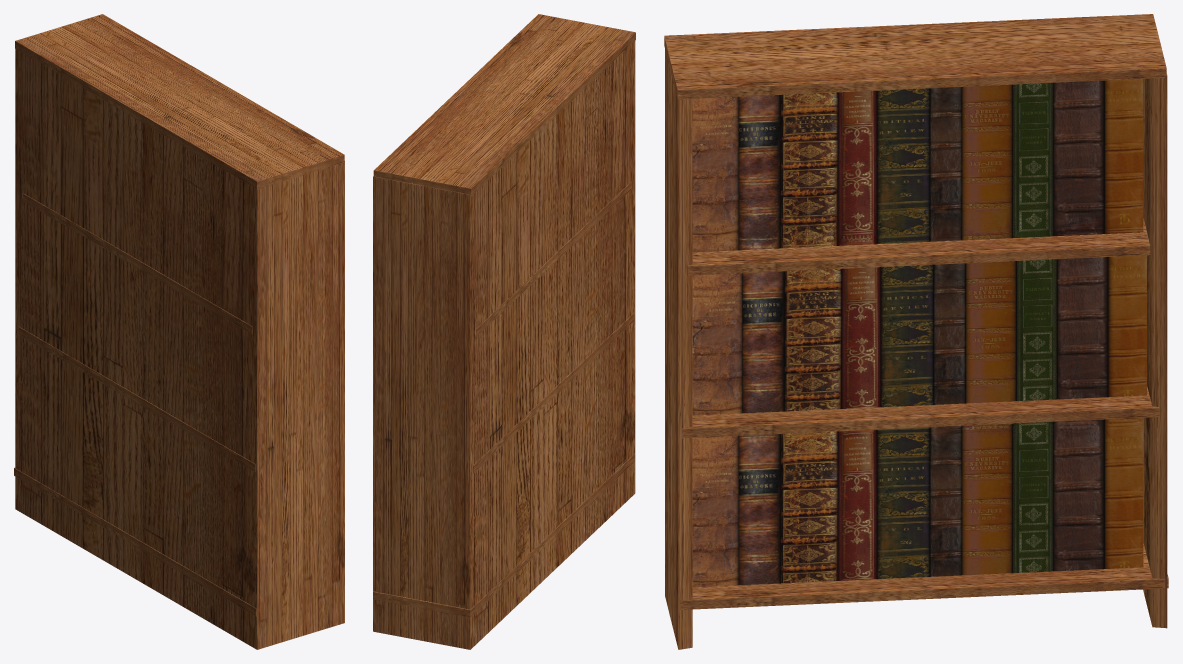
Rendered from Bookshelf_097-119-022__00f14e8f-b088-453e-86e6-e96448d67091.dae.
3 views of the same model, side by side, from view 1: azimuth 30°, elevation 25°; view 2: azimuth 150°, elevation 25°; view 3: azimuth 270°, elevation 25° (orthographic). The views are drawn at different scales.
Parts seen in each view (by area): view 1: Bookshelf, Primitive (×4); view 2: Bookshelf, Primitive (×4); view 3: Primitive (×6), Bookshelf (×2).
Part boxes in pixels (x1,y1,x2,y2): Bookshelf: (15, 49, 344, 649); Primitive (×4): (14, 14, 344, 616); Bookshelf: (373, 41, 635, 649); Primitive (×4): (373, 14, 635, 617); Primitive (×6): (664, 14, 1168, 609); Bookshelf (×2): (665, 49, 1167, 649).
Size of the model in its own units: 0.4726 by 1.32 by 1.61.
